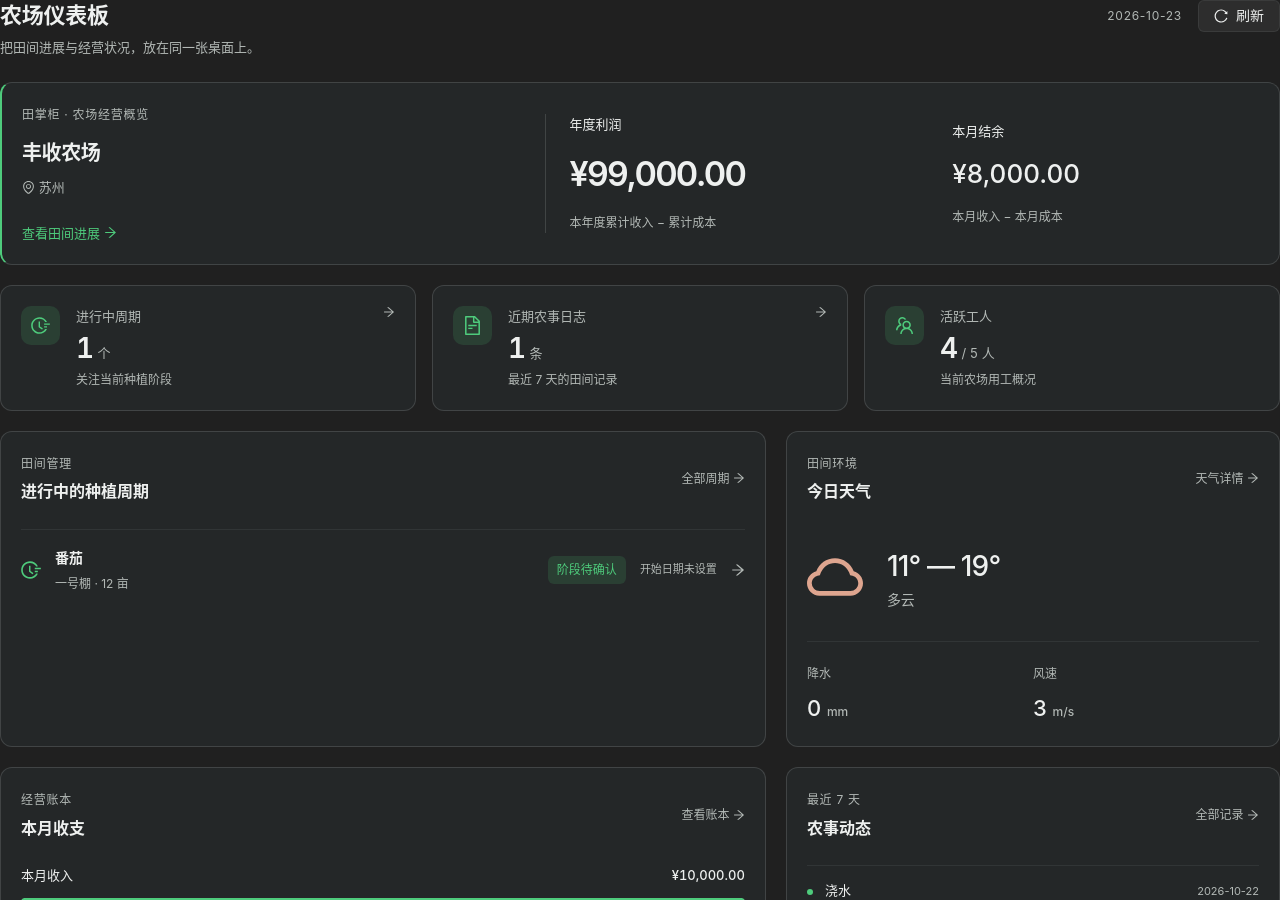
Test case: Dashboard › 刷新失败保留经营快照，再次刷新可恢复
The image size is (1280, 900).
Expected: the heading "丰收农场" is shown, [22,141,100,165]
Click the button "刷新". click: (1239, 16)
box: [1198,0,1279,32]
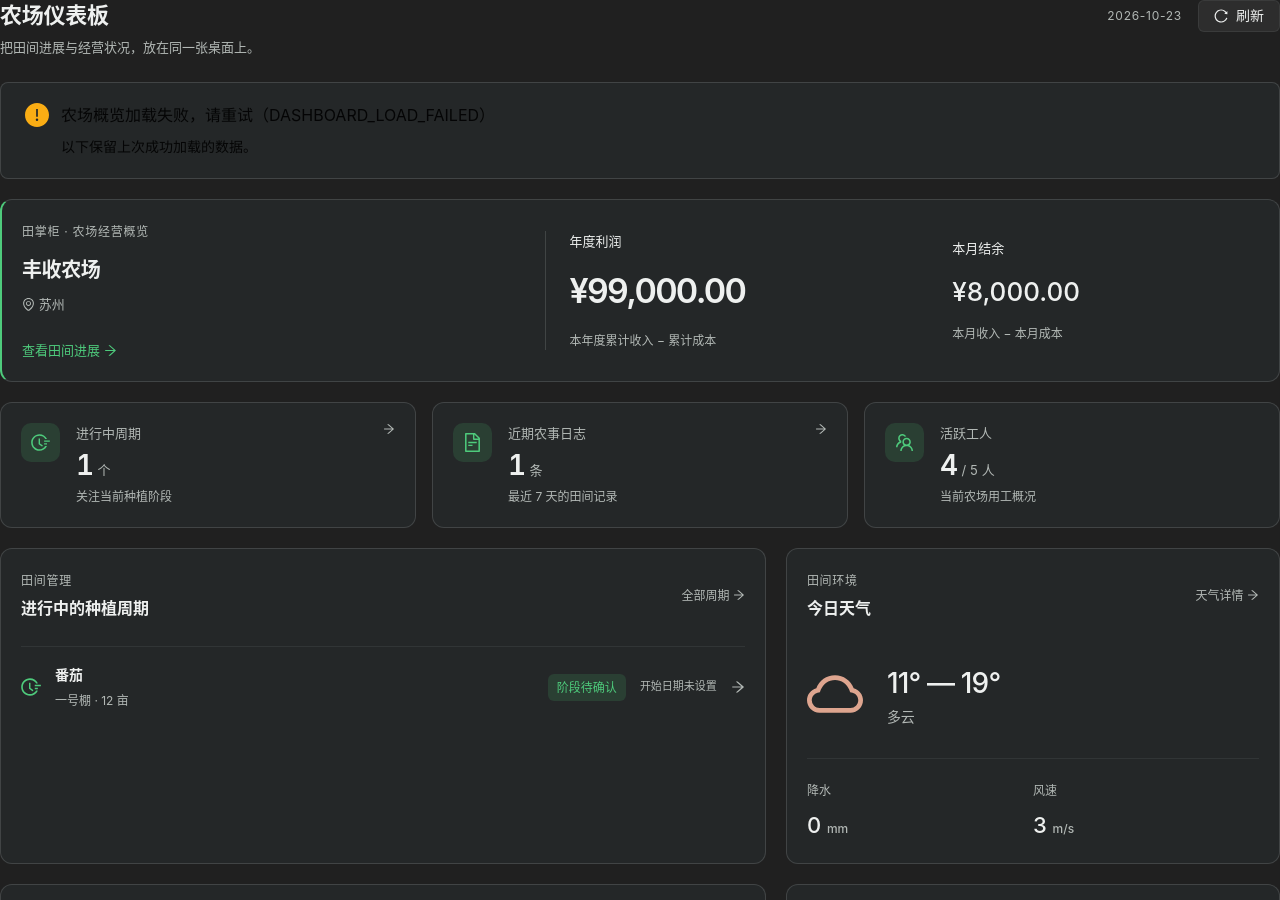
Expected: the heading "丰收农场" is shown, [22,258,100,282]
Expected: the text "农场概览加载失败，请重试（DASHBOARD_LOAD_FAILED）" is shown, [61,105,495,125]
Click the button "刷新". click: (1239, 16)
box: [1198,0,1279,32]
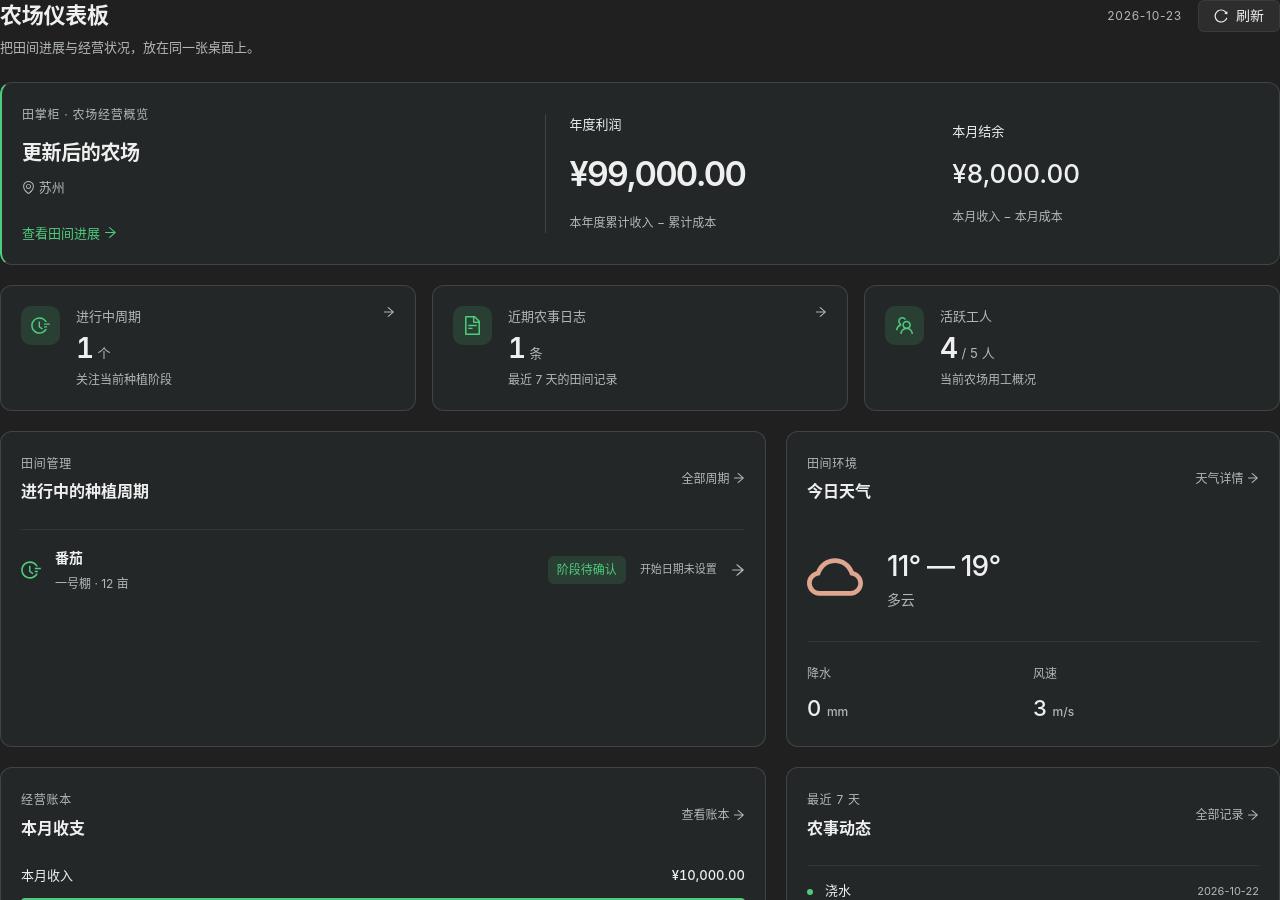
Expected: the heading "更新后的农场" is shown, [22,141,140,165]
Expected: the text "DASHBOARD_LOAD_FAILED" is gone
